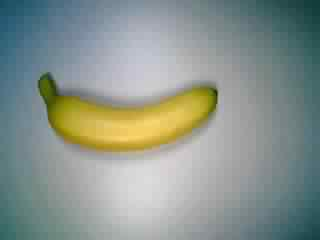banana: (31, 67, 227, 159)
